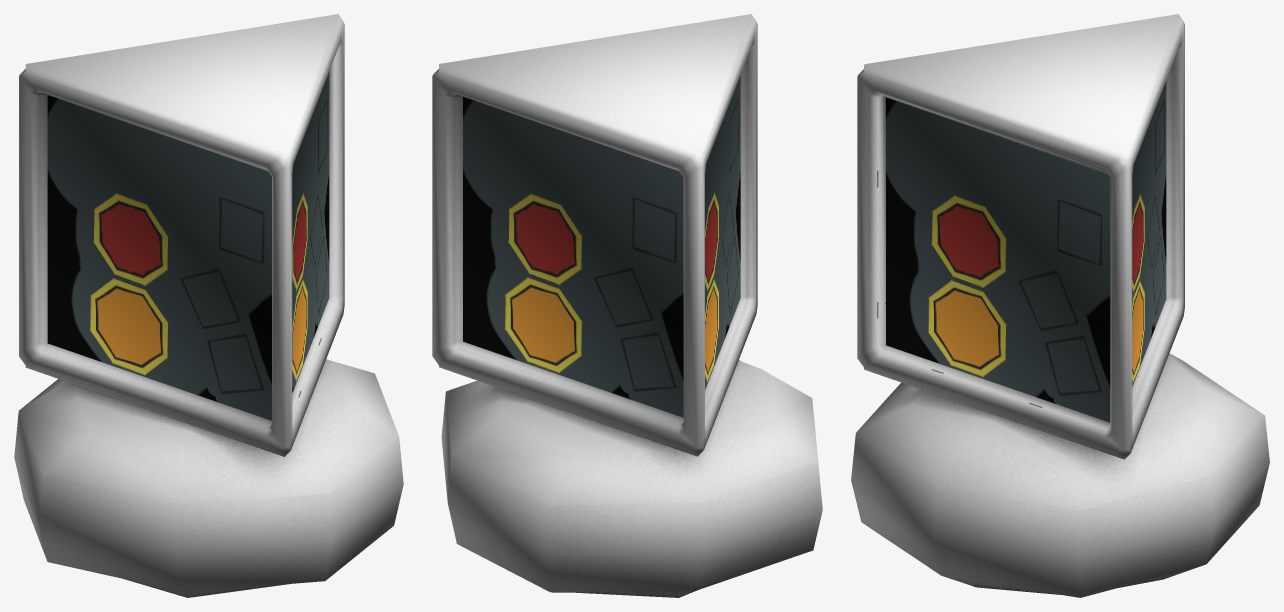
File: MonitorModel.fbx
The picture shows the model from 3 angles, left to right: view 1: azimuth 30°, elevation 25°; view 2: azimuth 150°, elevation 25°; view 3: azimuth 270°, elevation 25°; orthographic projection.
Visible parts, largest first — view 1: Cone; view 2: Cone; view 3: Cone.
Boxes of the visible parts, <box> form: Cone: <box>14,14,403,597</box>; Cone: <box>432,14,822,597</box>; Cone: <box>851,14,1269,597</box>.
Bounding box in the file's own units: 2.04 × 2.57 × 2.04.
